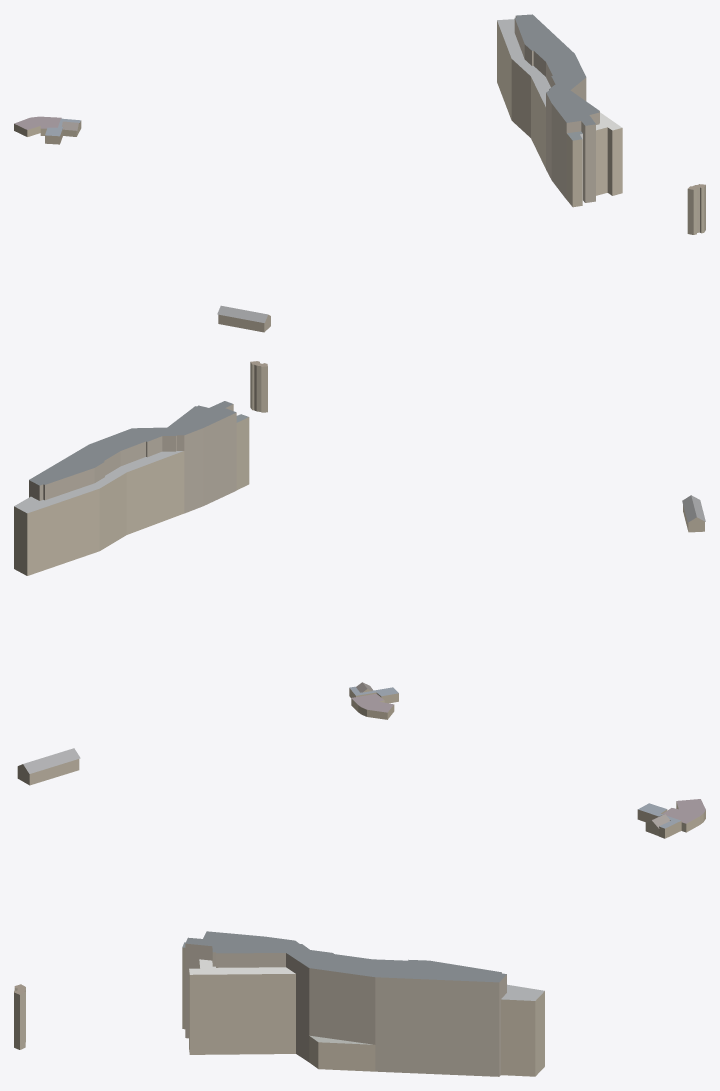
The picture shows the model from 3 angles, top to bottom: view 1: azimuth 30°, elevation 25°; view 2: azimuth 150°, elevation 25°; view 3: azimuth 270°, elevation 25°; orthographic projection. The views are drawn at different scales.
Parts seen in each view (by area): view 1: tuile; view 2: tuile; view 3: tuile.
Boxes of the visible parts, x1,y1,x2,y2 form: tuile: (14,14,705,332); tuile: (14,361,705,719); tuile: (14,748,705,1076).
Size of the model in its own units: 256 by 38.36 by 255.
